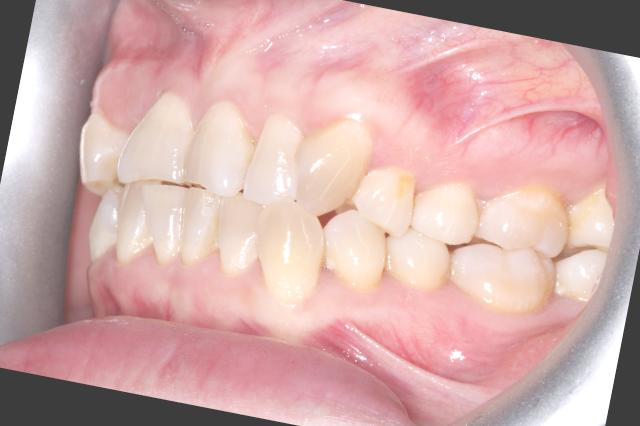canine class II 1/4: (243, 101, 412, 322)
molar class I: (444, 164, 578, 320)
